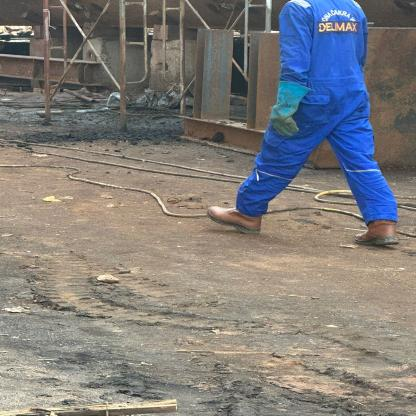bota: (203, 202, 264, 236), (354, 219, 402, 247)
